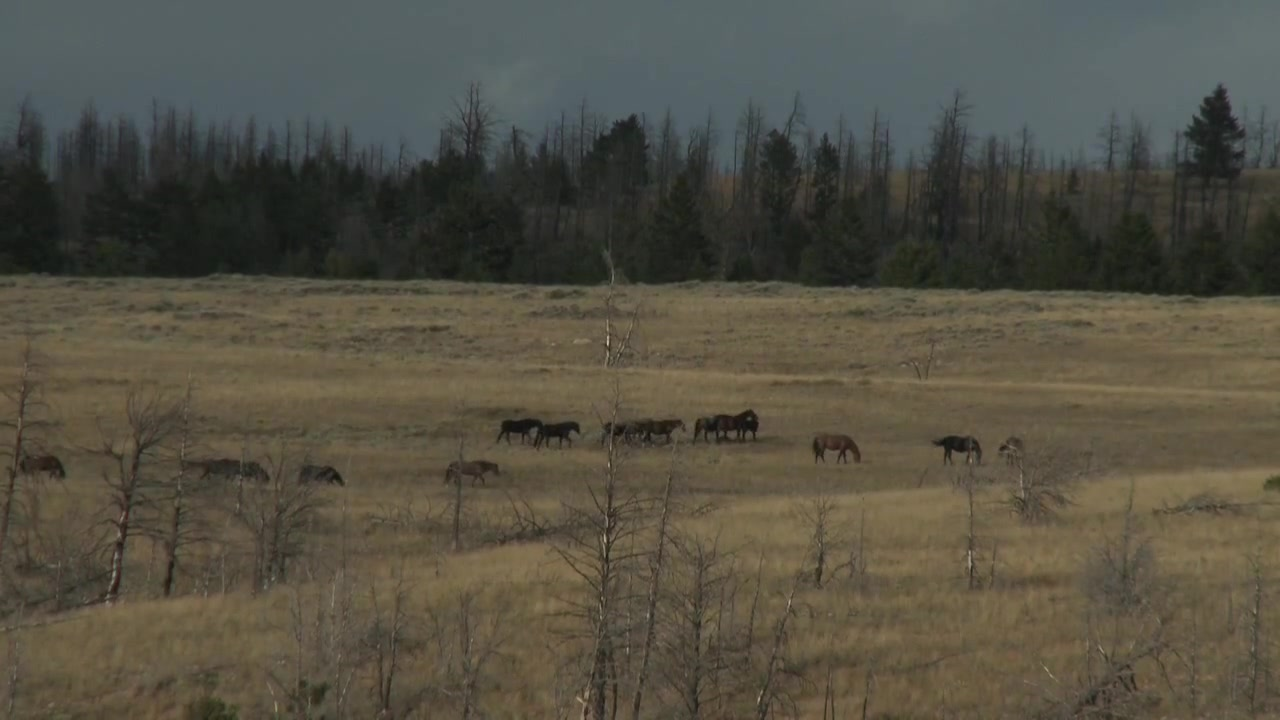horse: (442, 455, 504, 492), (196, 459, 268, 487), (13, 449, 72, 482), (932, 432, 987, 466), (495, 417, 549, 450), (815, 433, 865, 466), (294, 459, 347, 489), (534, 422, 585, 452), (720, 408, 763, 440), (641, 421, 690, 449), (695, 413, 736, 441), (601, 423, 642, 449), (744, 420, 770, 436)
